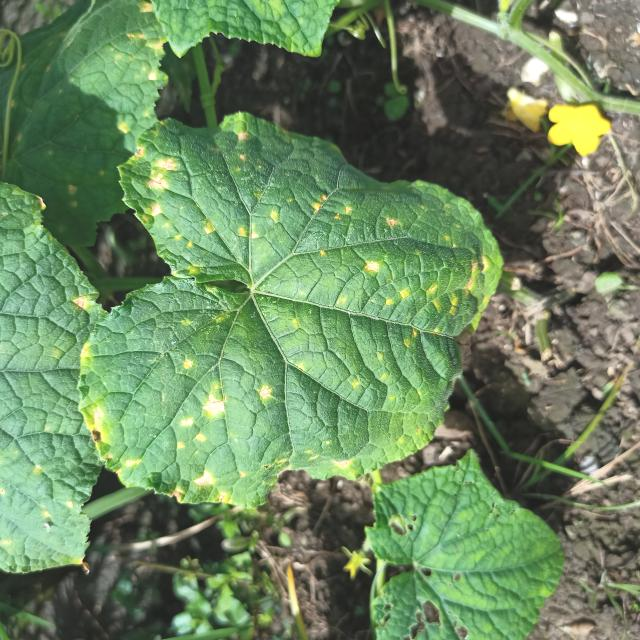disease_cucumber: (80, 127, 492, 510), (31, 456, 78, 524)
